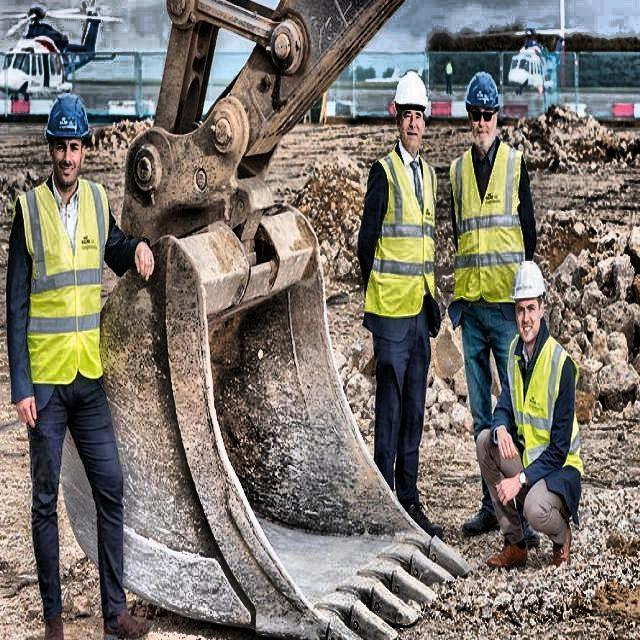safety_helmet: (42, 90, 88, 142), (465, 72, 502, 110), (512, 259, 546, 300), (394, 71, 429, 110)
safety_jacket: (13, 177, 111, 385), (364, 151, 438, 317), (450, 142, 525, 304), (507, 333, 586, 478)
